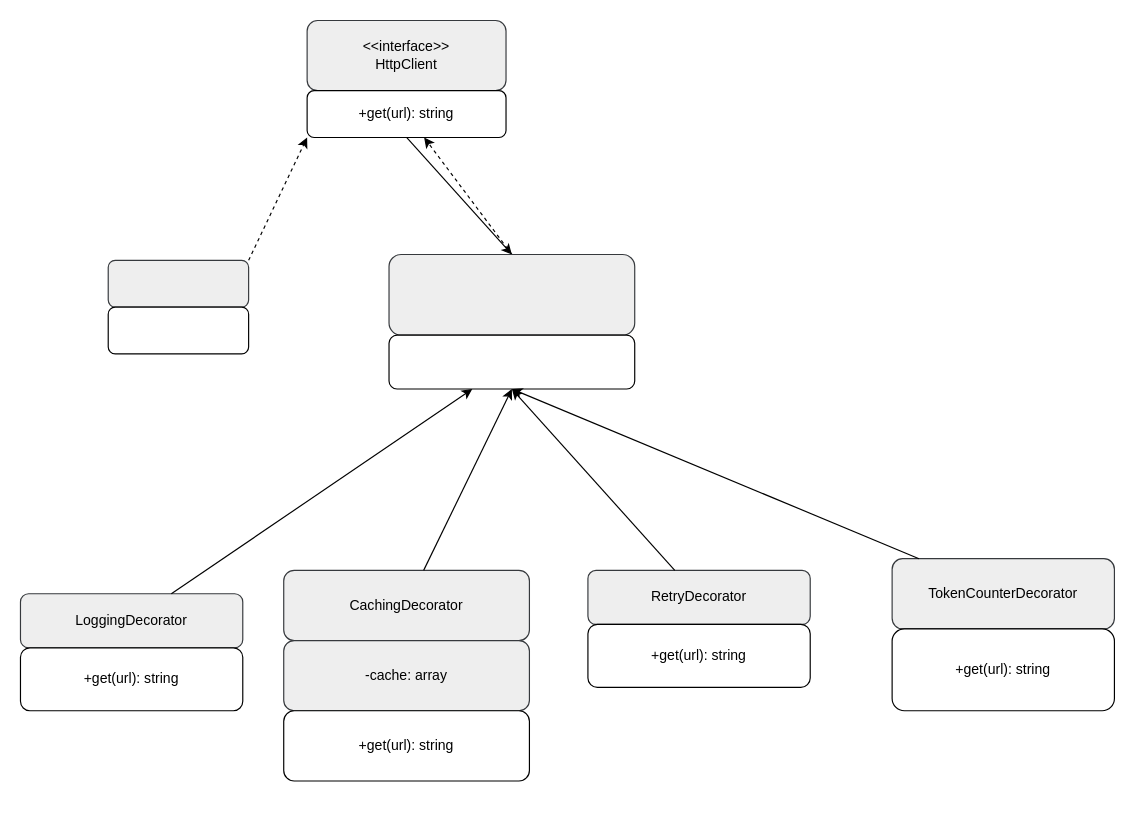
Some shapes in this 1135 by 825 pixel diagram are drawn without their labels. The centre of each missing label's shape, as x and y in pixels:
#wrapped: HttpClient: point 511,361
+get(url: point 178,330
<<abstract>> HttpDecorator: point 511,294
BaseHttpClient: point 178,283
